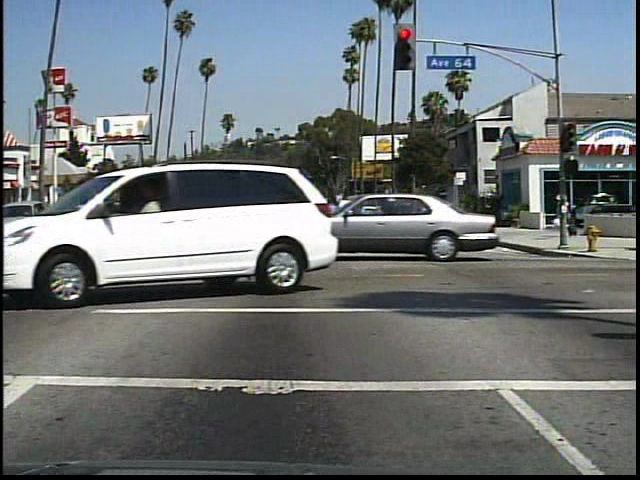person: (550, 188, 577, 235)
